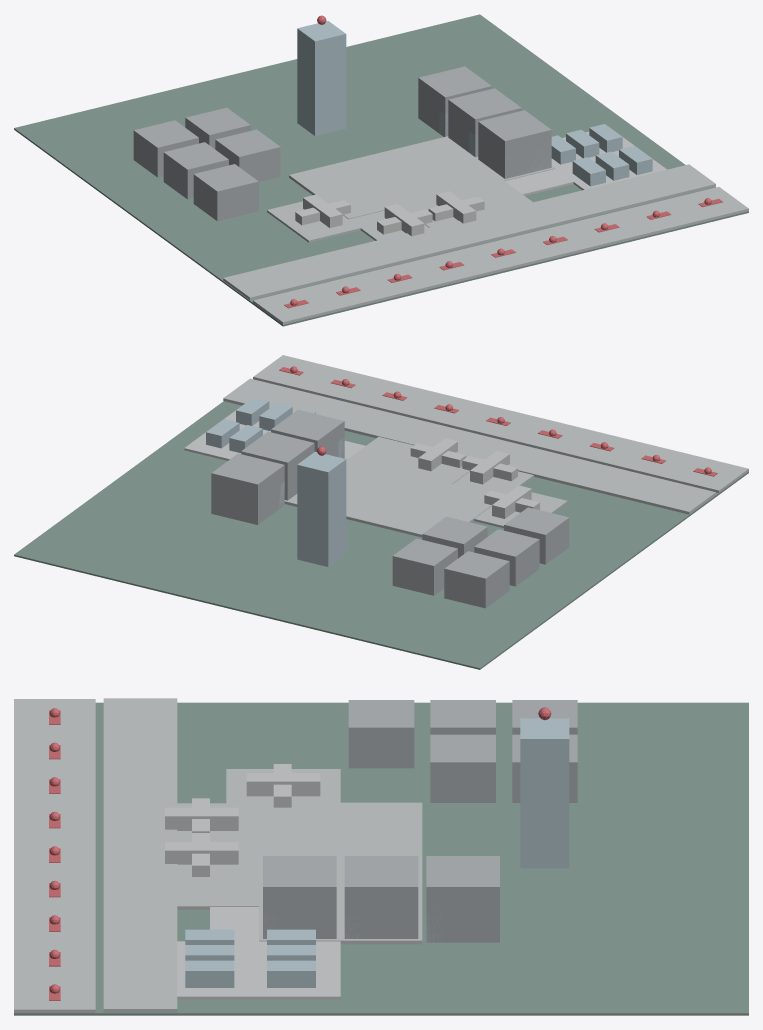
File: stage_20.glb
The picture shows the model from 3 angles, top to bottom: view 1: azimuth 30°, elevation 25°; view 2: azimuth 150°, elevation 25°; view 3: azimuth 270°, elevation 25°; orthographic projection. The views are drawn at different scales.
Parts seen in each view (by area): view 1: geometry_0; view 2: geometry_0; view 3: geometry_0.
Part boxes in pixels (x1,y1,x2,y2): geometry_0: [14, 14, 748, 326]; geometry_0: [14, 355, 748, 669]; geometry_0: [14, 698, 748, 1015].
Size of the model in its own units: 9 by 2.06 by 9.
